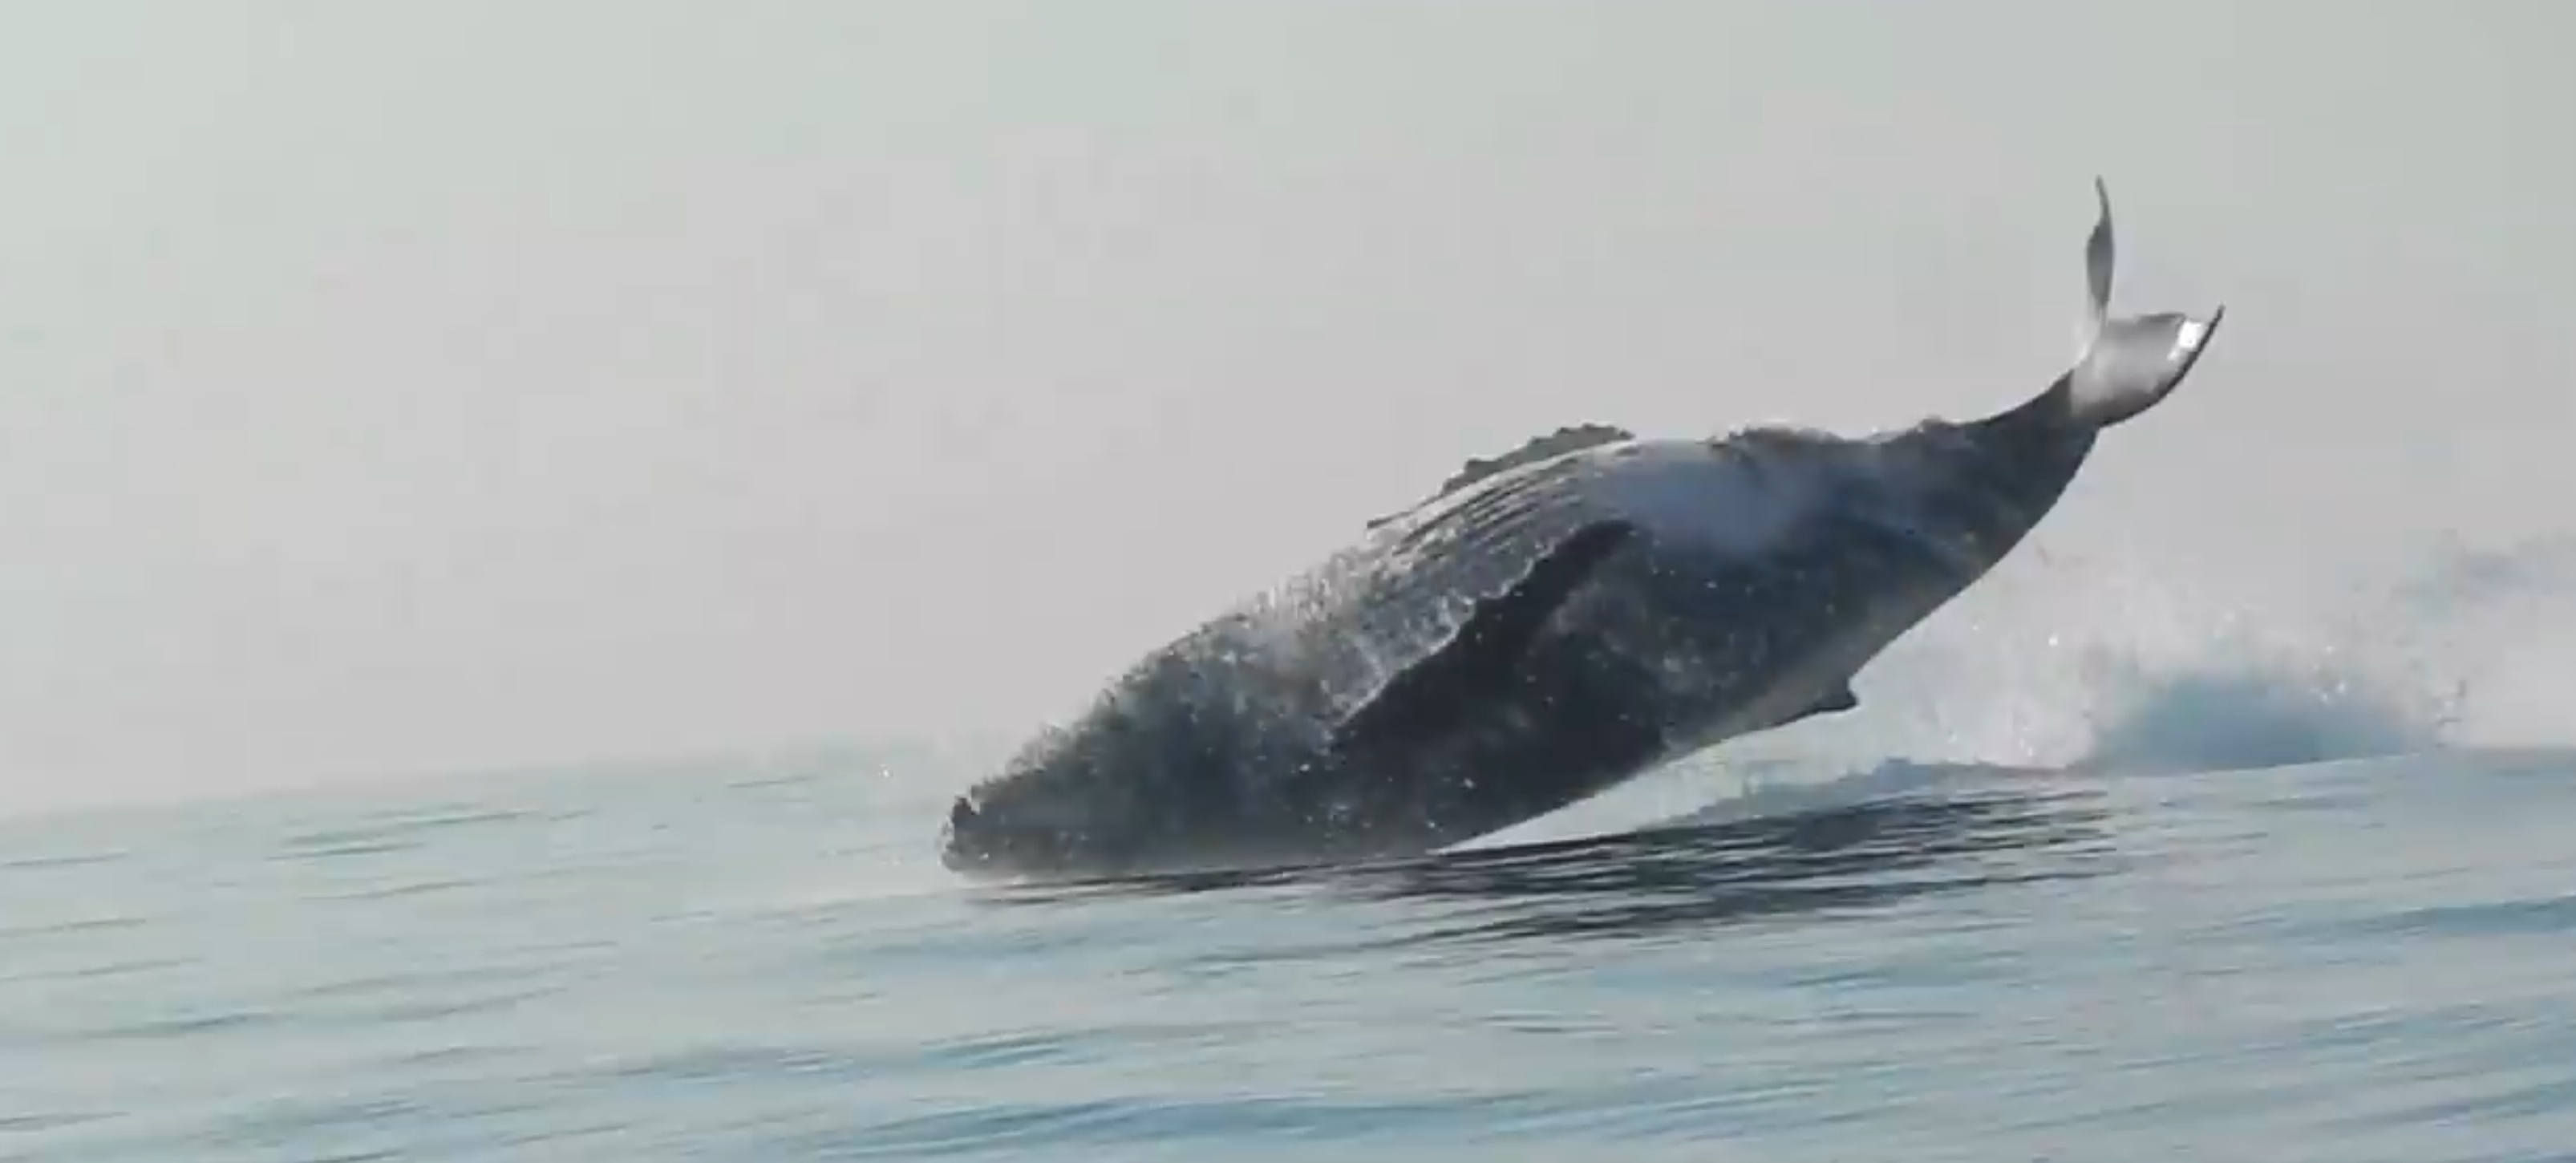humpback: (881, 299, 2224, 880)
